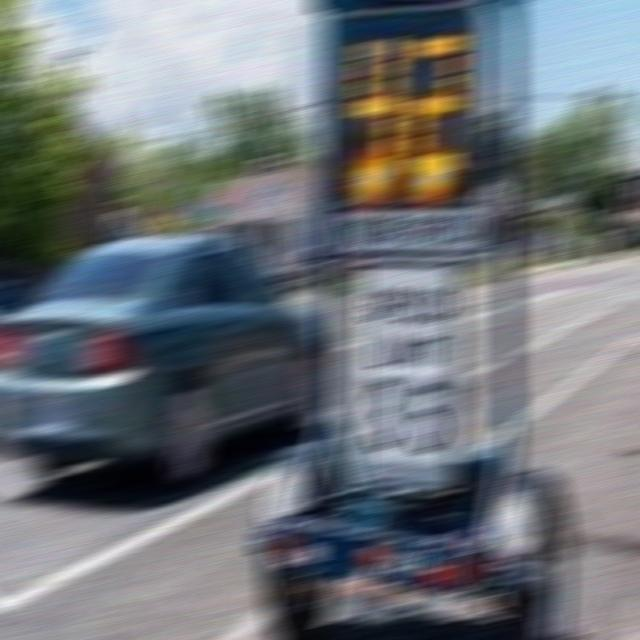speedLimit35: (351, 258, 462, 500)
